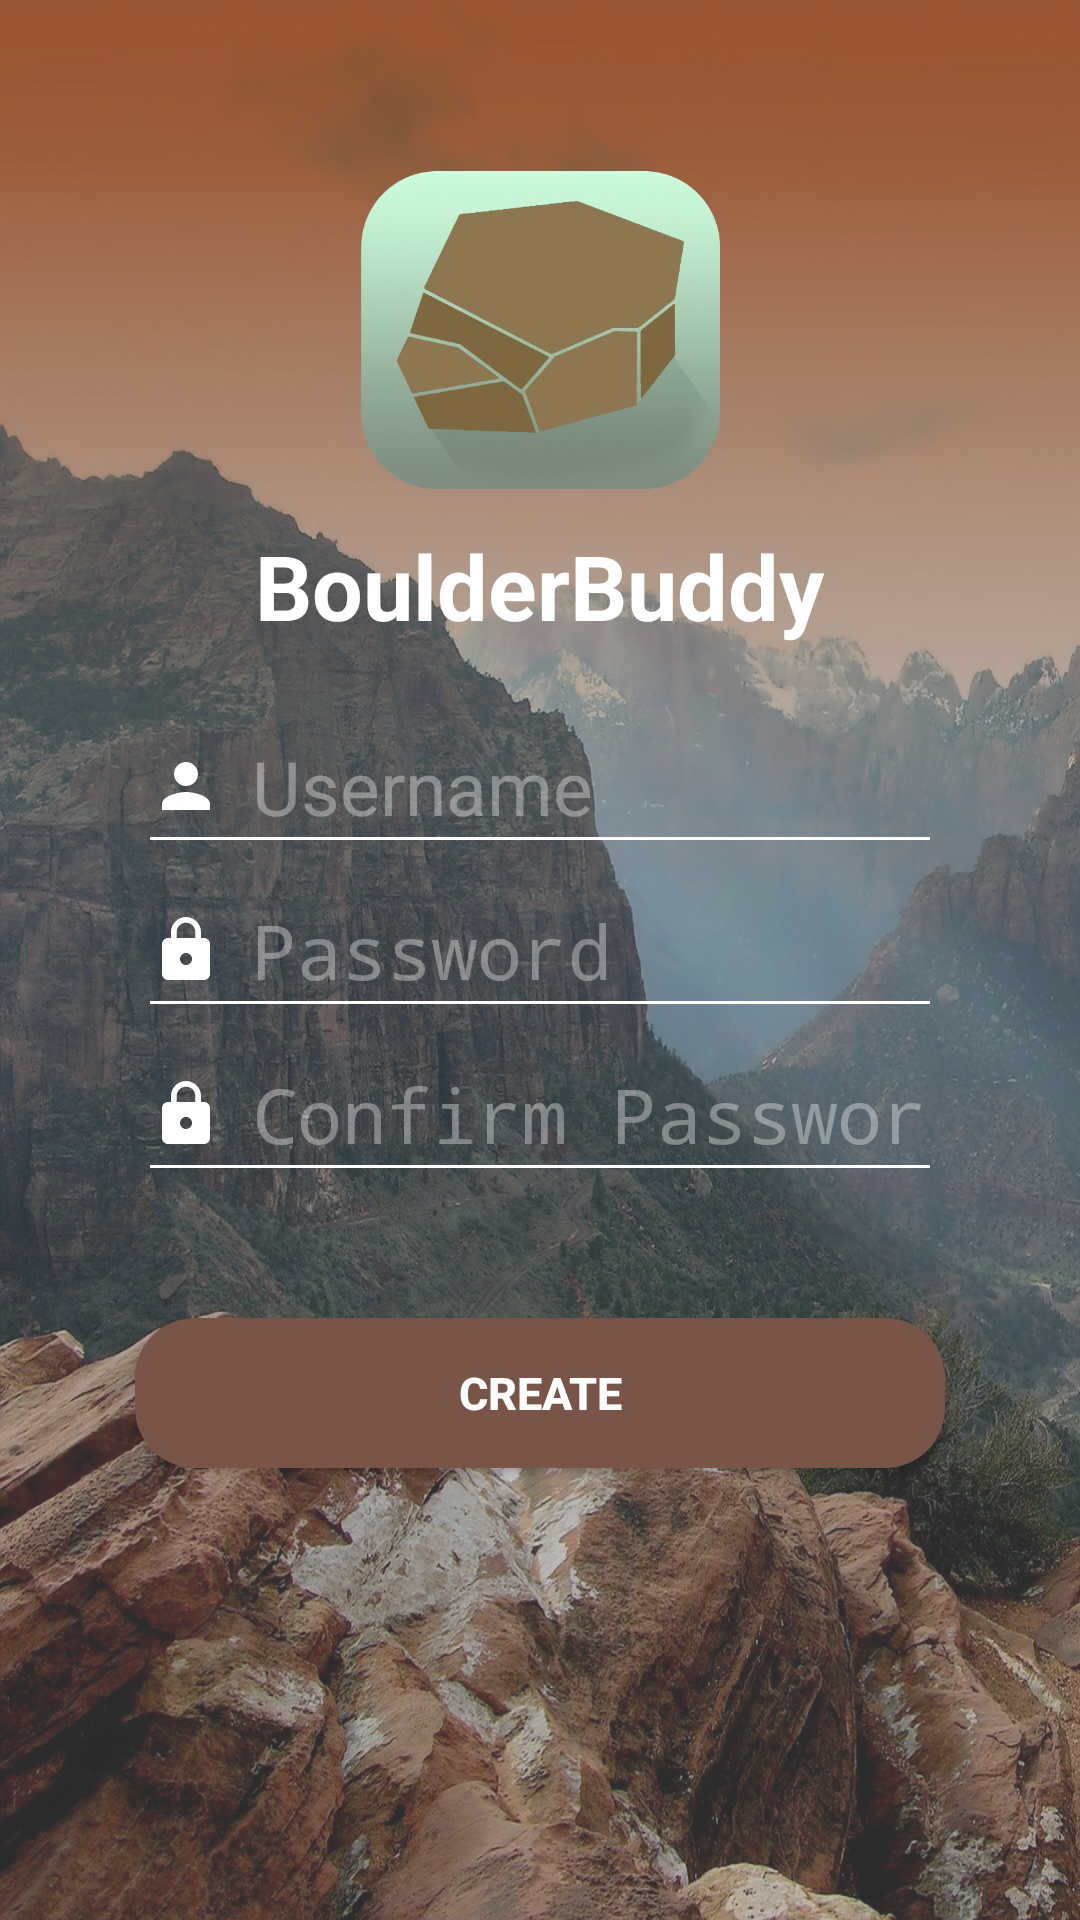

Point at icon controls on the screen. Image size 1080px x 1920px, points as point (x, y).
app: point (540, 330)
